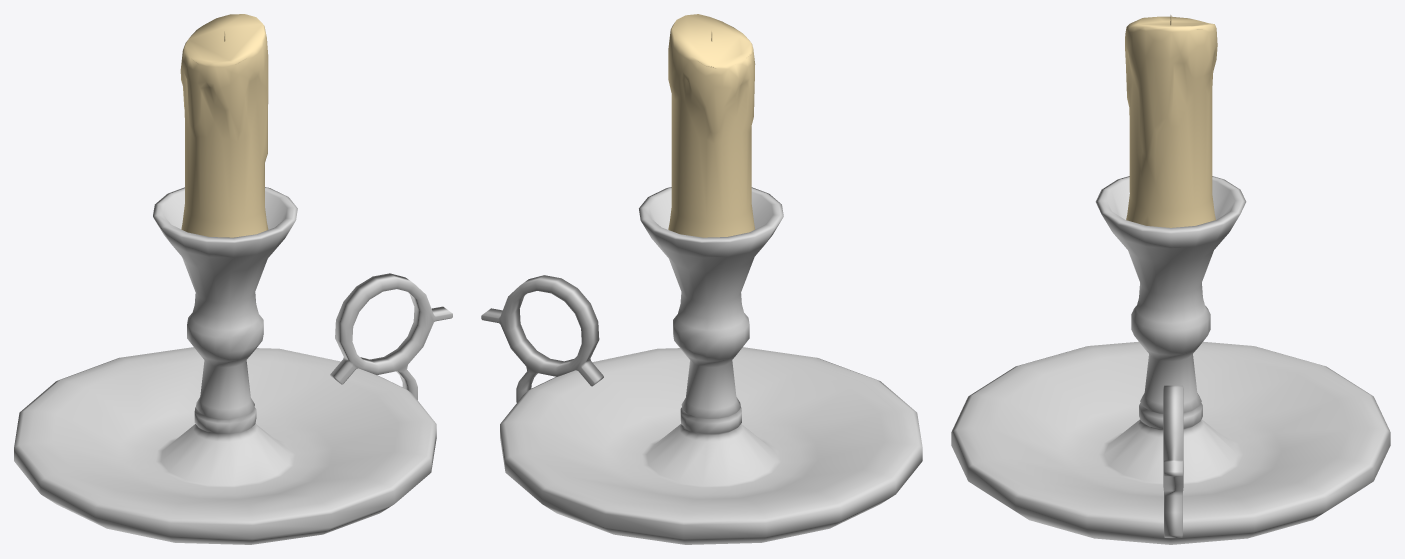
Rendered from vela con portavelas.fbx.
3 views of the same model, side by side, from view 1: azimuth 30°, elevation 25°; view 2: azimuth 150°, elevation 25°; view 3: azimuth 270°, elevation 25° (orthographic). The views are drawn at different scales.
Parts seen in each view (by area): view 1: portavelas; view 2: portavelas; view 3: portavelas.
Part boxes in pixels (left/top/right/bottom): portavelas: left=14, top=14, right=452, bottom=544; portavelas: left=481, top=14, right=922, bottom=544; portavelas: left=951, top=15, right=1390, bottom=544.
Size of the model in its own units: 0.1649 by 0.1683 by 0.1489.
